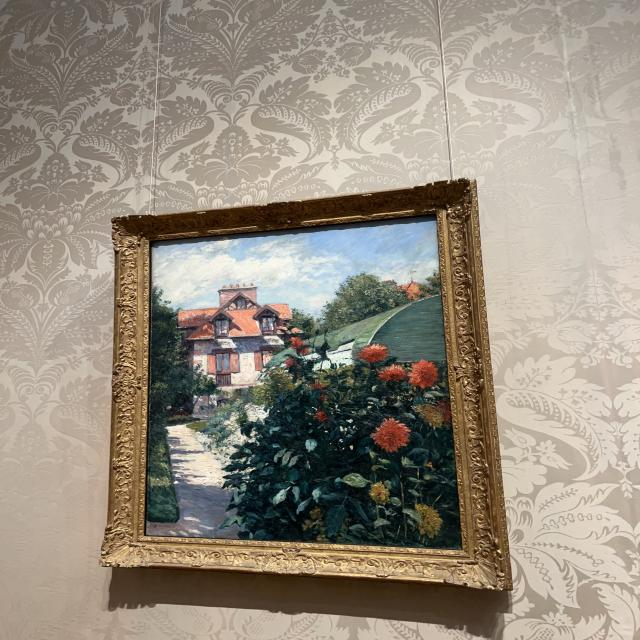summer: (150, 221, 453, 546)
